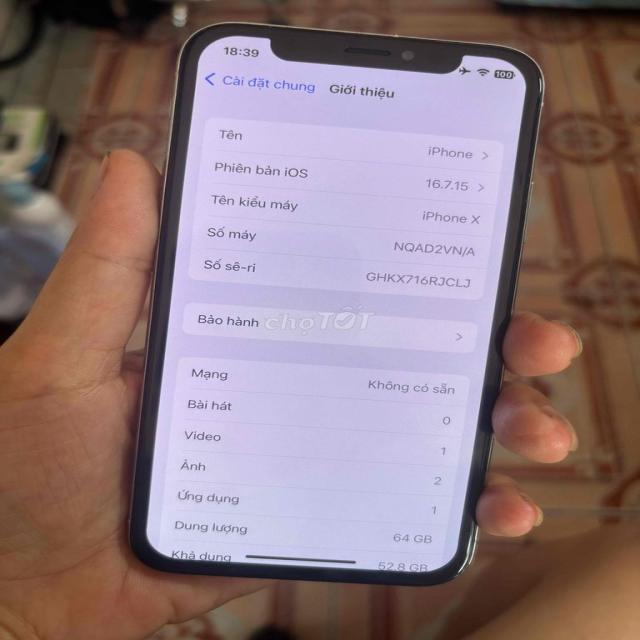gen_x_xs: (126, 23, 542, 587)
